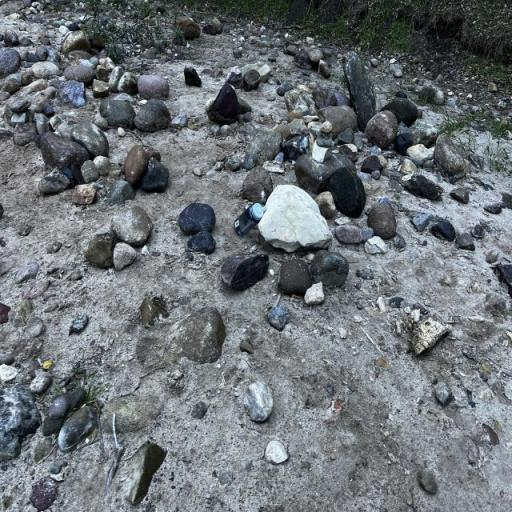bottle: (234, 202, 268, 237)
